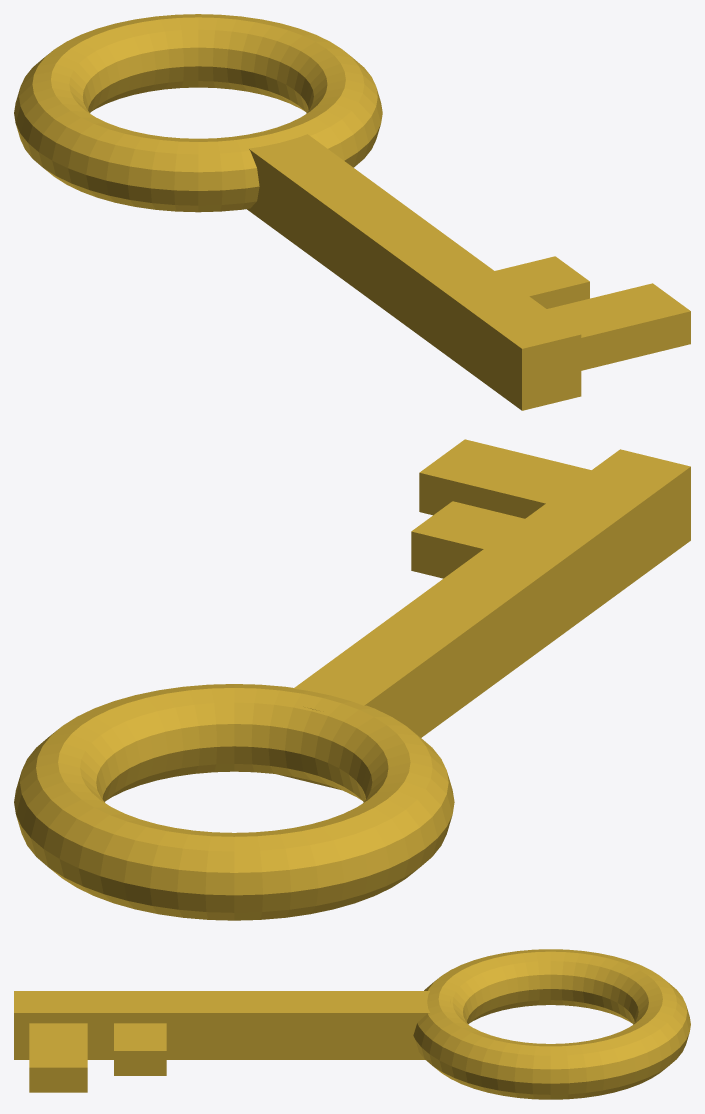
File: GoldKey.fbx
3 renders of one model, top to bottom at view 1: azimuth 30°, elevation 25°; view 2: azimuth 150°, elevation 25°; view 3: azimuth 270°, elevation 25°, orthographic. The views are drawn at different scales.
Parts seen in each view (by area): view 1: Cube; view 2: Cube; view 3: Cube.
Part boxes in pixels (x1,y1,x2,y2): Cube: (14,14,690,410); Cube: (14,439,690,920); Cube: (14,949,690,1099).
Bounding box in the file's own units: 128 × 25.63 × 309.
